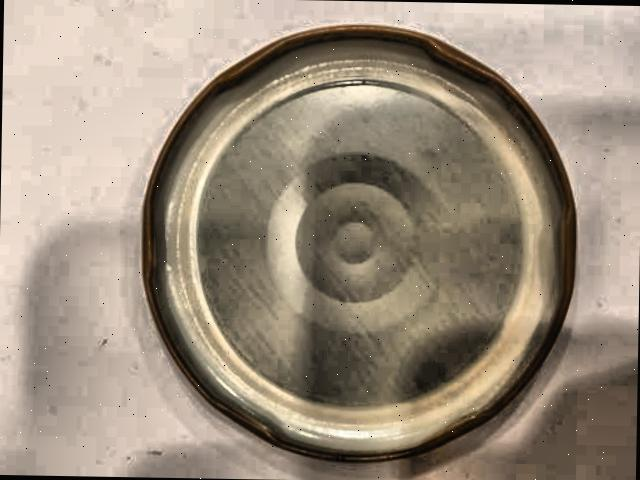Almennt: (113, 15, 607, 480)
